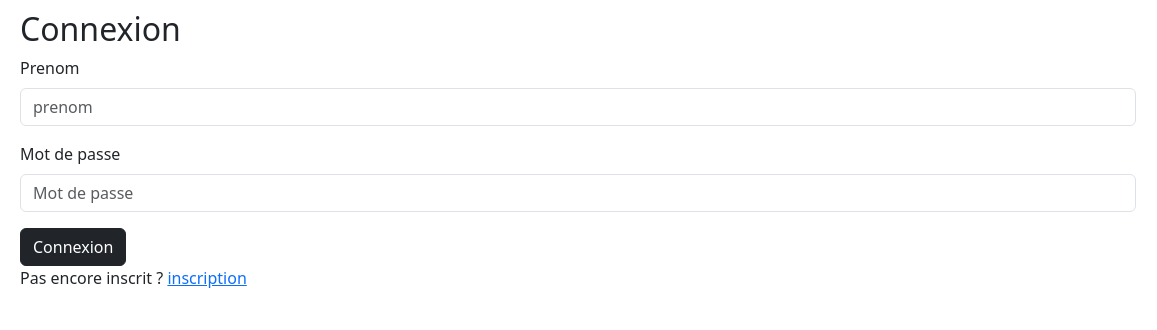
connexion page › should display correct error message
This screenshot has width=1157, height=330.
Type "123" into the password field named "password". click: x=578, y=193
box: [20, 174, 1136, 212]
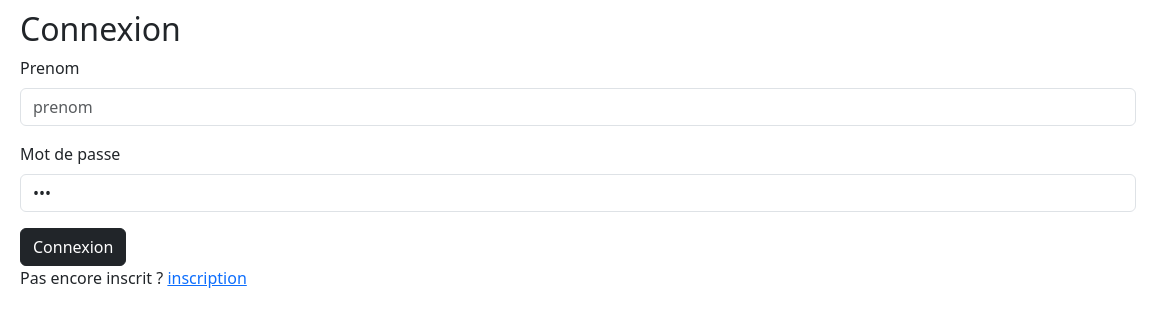
Click the button with aria-label "loginButton". click: x=73, y=247
box: [20, 228, 126, 266]
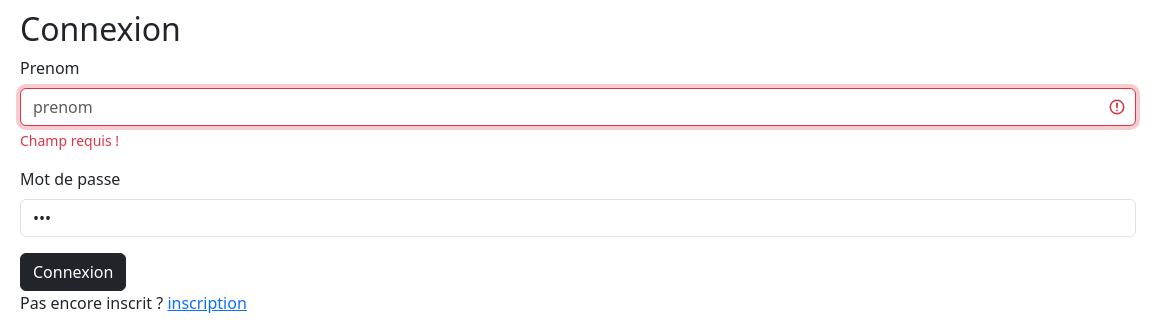
Result: the text "Champ requis !" is enabled at [20, 131, 119, 150]
